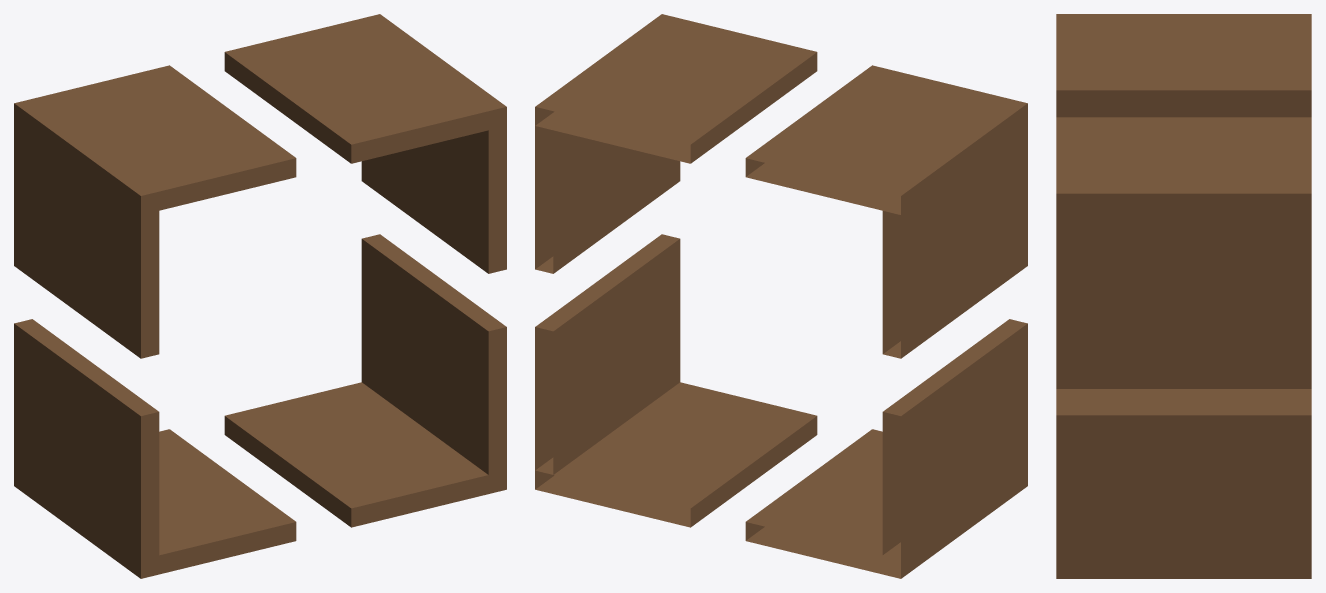
File: construction_1.glb
3 renders of one model, left to right at view 1: azimuth 30°, elevation 25°; view 2: azimuth 150°, elevation 25°; view 3: azimuth 270°, elevation 25°, orthographic.
Visible parts, largest first — view 1: construction_1; view 2: construction_1; view 3: construction_1.
Boxes of the visible parts, box(x1,y1,x2,y2) form: construction_1: box(14, 14, 506, 578); construction_1: box(535, 14, 1027, 578); construction_1: box(1056, 14, 1311, 578).
Bounding box in the file's own units: 12 × 12 × 7.2.
